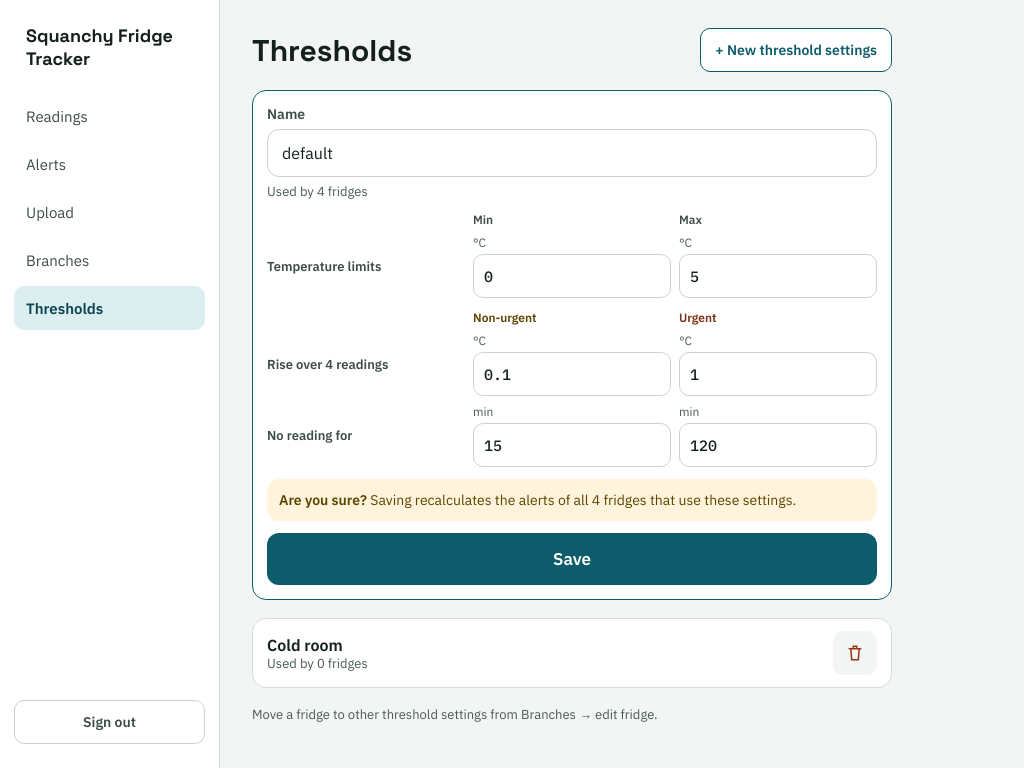
Scenario: ThresholdsPage delete › keeps the threshold settings when the user cancels
The width and height of the screenshot is (1024, 768).
Click the button named "Delete threshold settings Cold room".
click(855, 653)  # box [833,631,877,675]
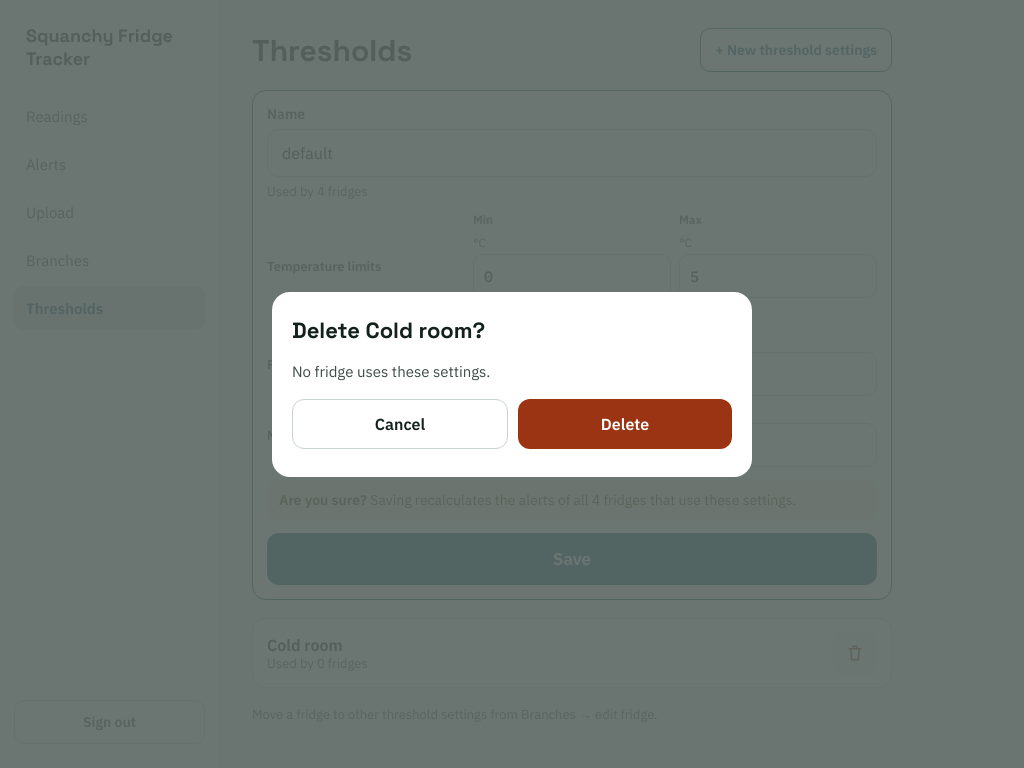
Click the button "Cancel".
click(400, 424)  # box [292,398,508,448]
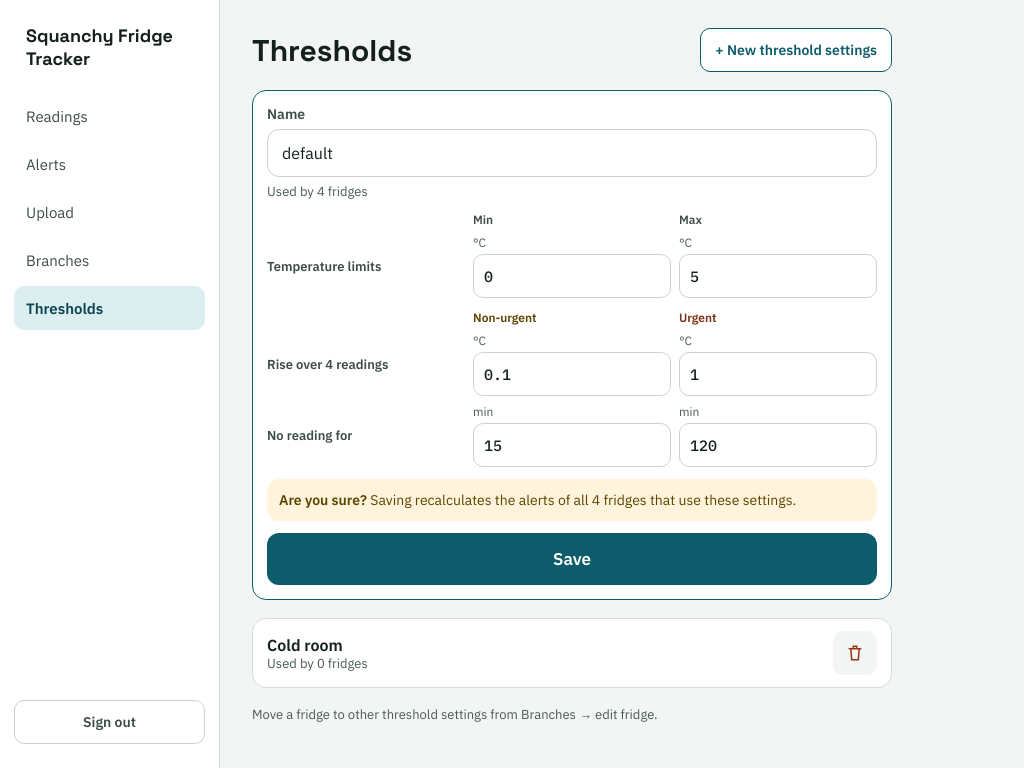
Expected: the button "Cold room Used by 0 fridges" is shown, [267,631,825,675]
Result: the dialog is gone
